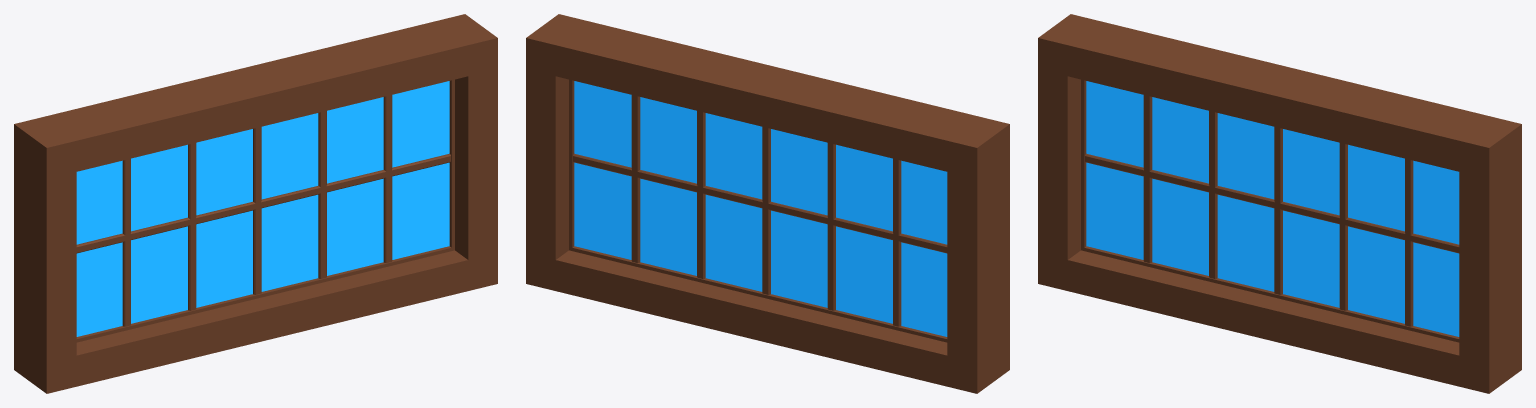
File: janela_larga_grade_6x2_madeira.glb
3 renders of one model, left to right at view 1: azimuth 30°, elevation 25°; view 2: azimuth 150°, elevation 25°; view 3: azimuth 330°, elevation 25°, orthographic.
Visible parts, largest first — view 1: janela_larga_grade_6x2_madeira; view 2: janela_larga_grade_6x2_madeira; view 3: janela_larga_grade_6x2_madeira.
Part boxes in pixels (x1=…): janela_larga_grade_6x2_madeira: x1=14, y1=14, x2=497, y2=393; janela_larga_grade_6x2_madeira: x1=526, y1=14, x2=1009, y2=393; janela_larga_grade_6x2_madeira: x1=1038, y1=14, x2=1521, y2=393.
Size of the model in its own units: 1.67 by 0.87 by 0.21.
